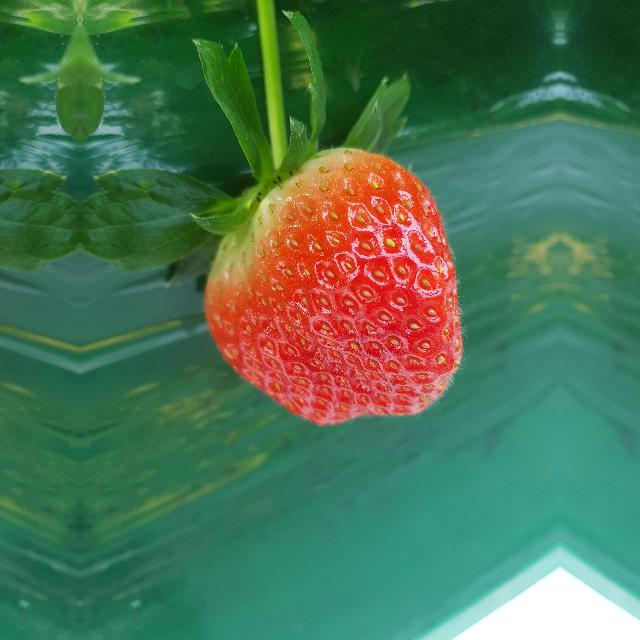Health_100: (202, 147, 466, 427)
